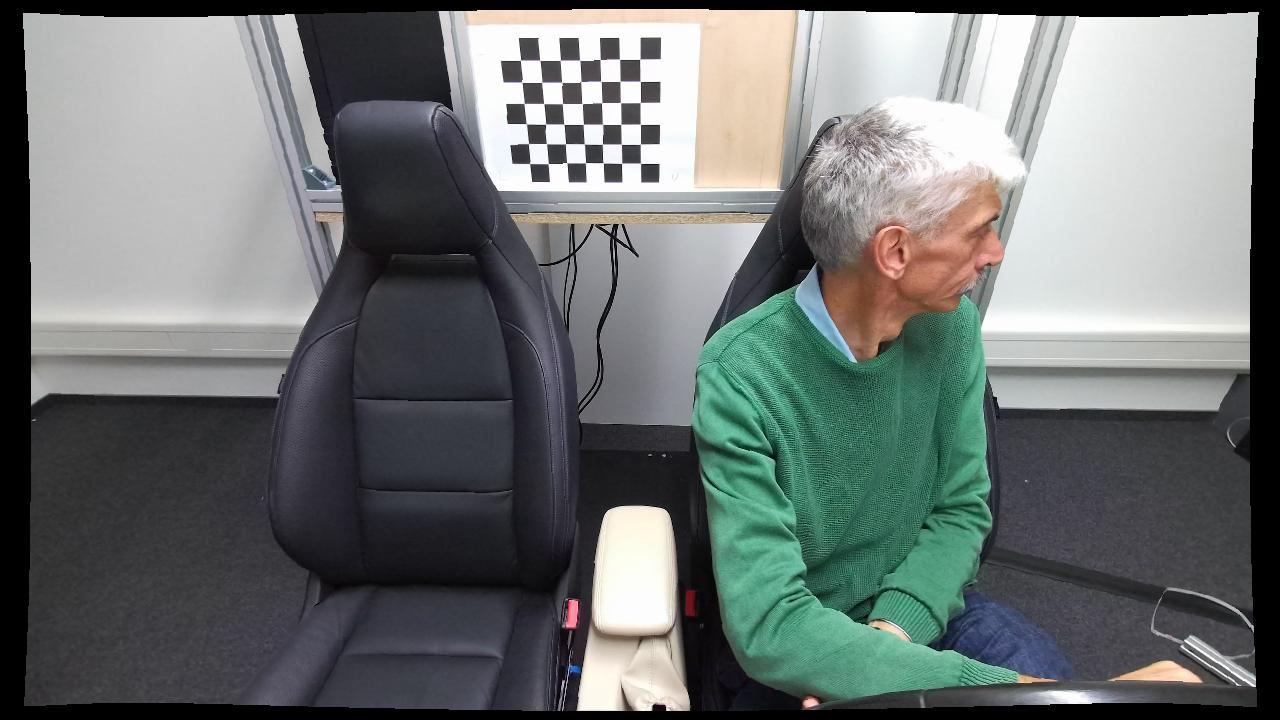Distracted: (690, 96, 1047, 716)
